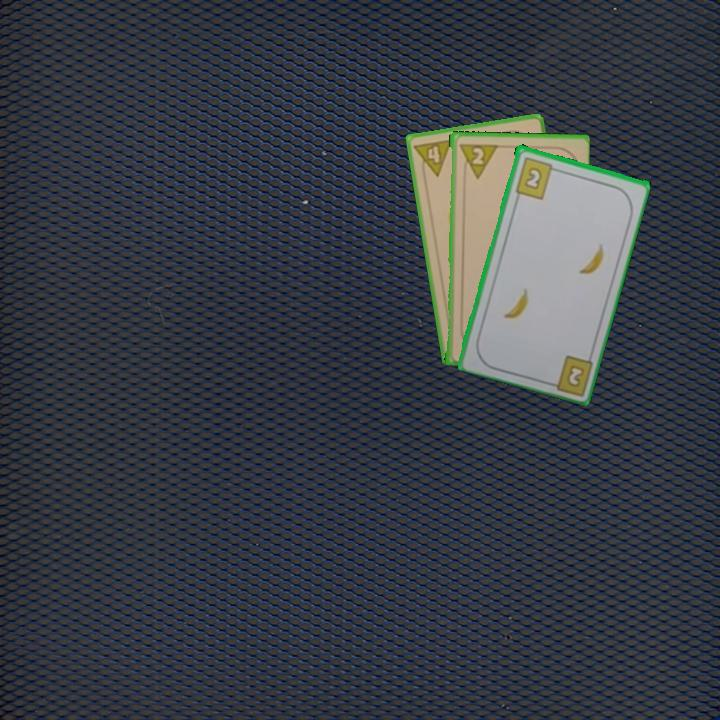2b: (511, 153, 561, 201), (564, 361, 587, 388)
2p: (455, 139, 498, 181)
4p: (411, 136, 455, 181)
